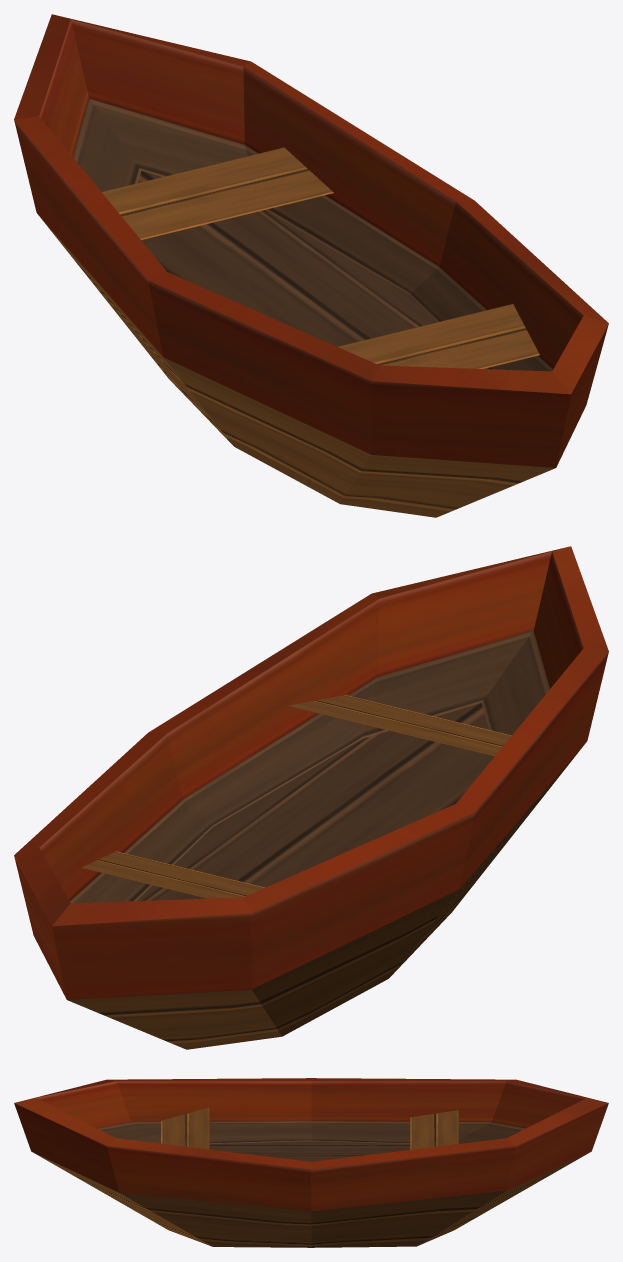
Rendered from co_Boat05.fbx.
The picture shows the model from 3 angles, top to bottom: view 1: azimuth 30°, elevation 25°; view 2: azimuth 150°, elevation 25°; view 3: azimuth 270°, elevation 25°; orthographic projection. The views are drawn at different scales.
Visible parts, largest first — view 1: Boat05; view 2: Boat05; view 3: Boat05.
Part boxes in pixels (<box>): Boat05: <box>14,14,608,517</box>; Boat05: <box>14,546,608,1049</box>; Boat05: <box>14,1078,608,1247</box>.
Size of the model in its own units: 822 by 560 by 2262.
